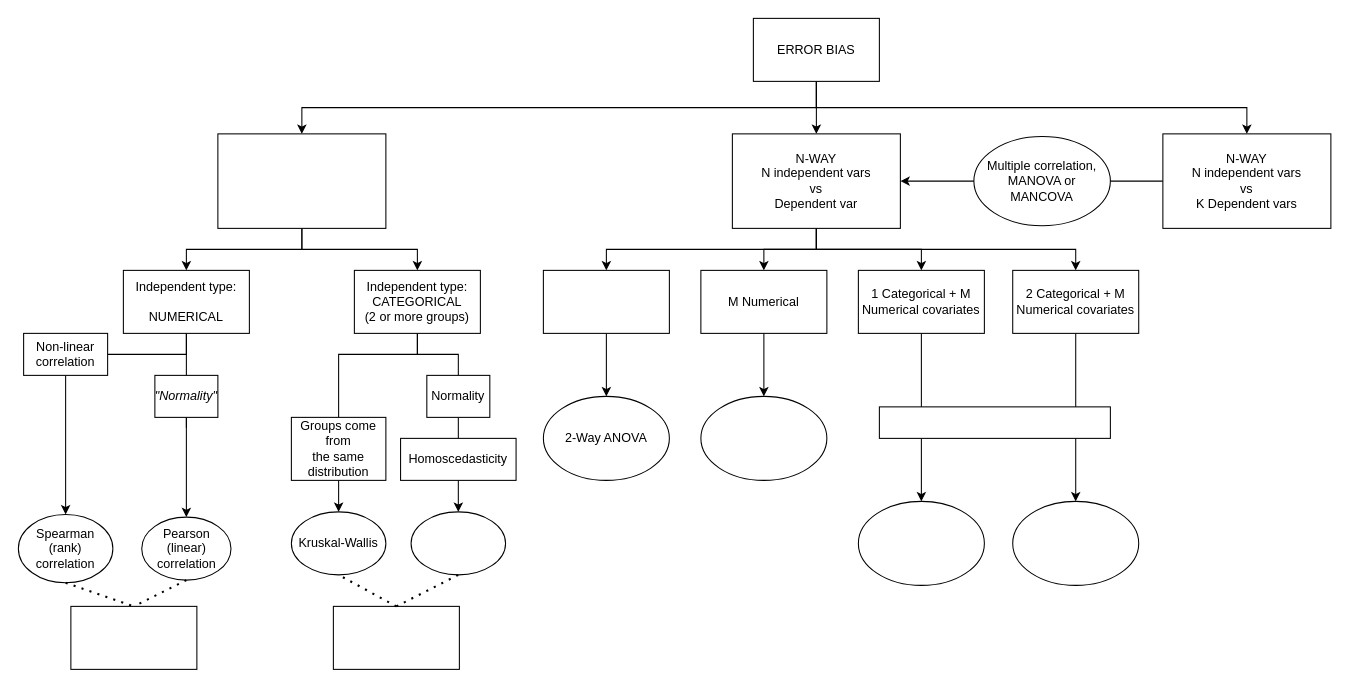
This 1349x688 diagram has some shape labels left out. The shapes that lost their labels are listed below. From the top down, each one's box as (x1, y1, x2, y2) in pixels, then its label:
(217, 133, 386, 228): ONE-WAY Independent var vs Dependent var
(542, 269, 669, 333): 2 Categorical
(700, 395, 827, 480): Multiple correlation
(878, 406, 1110, 438): + Homogeneity of covariances
(410, 511, 506, 575): 1-Way ANOVA
(857, 500, 984, 585): 1-Way ANCOVA
(1012, 500, 1139, 585): 2-Way ANCOVA
(70, 605, 197, 669): H0: Both variables are NOT correlated
(332, 605, 459, 669): H0: Means are even among groups
